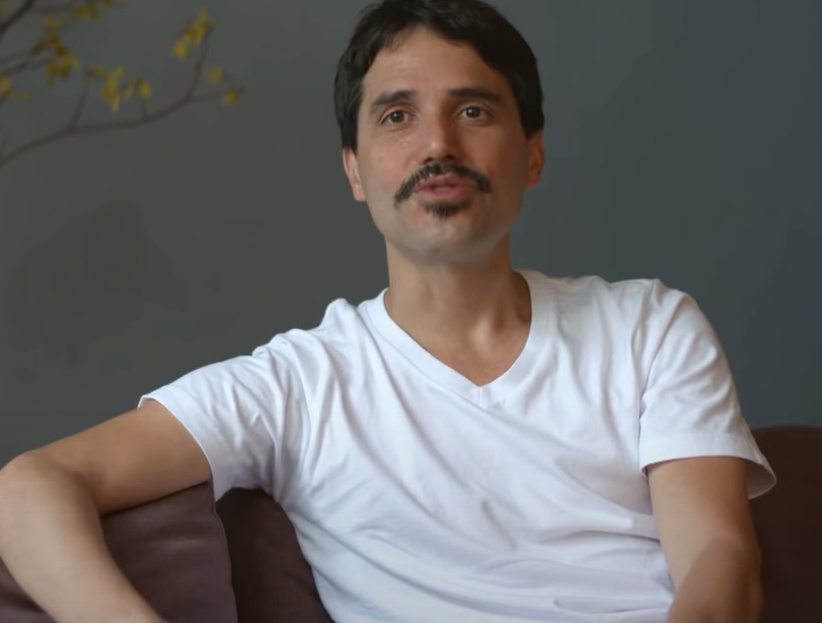mouth: (405, 175, 477, 203)
nose: (413, 140, 459, 161)
